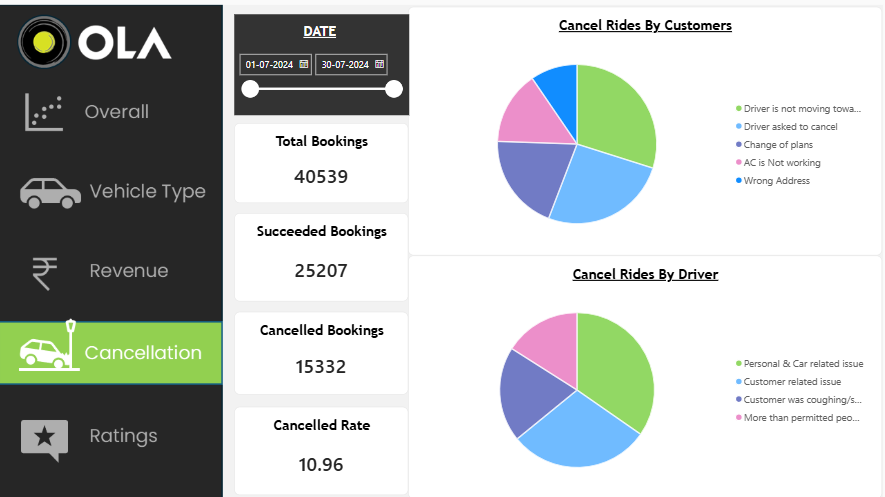

What the dashboard file says about the page in this screenshot:
{"tool":"powerbi","page":{"name":"Cancellation","canvas":[1920,1080],"ordinal":3},"visuals":[{"type":"actionButton","box":[318.3,406.7,325,90],"z":0},{"type":"actionButton","box":[318.3,516.7,325,90],"z":1000},{"type":"actionButton","box":[318.3,758.3,325,90],"z":2000},{"type":"actionButton","box":[318.3,290,325,90],"z":3000},{"type":"pieChart","title":"Cancel Rides By Customers","fields":{"Category":["July.Canceled_Rides_by_Customer"],"Series":["July.Canceled_Rides_by_Customer"],"Y":["CountNonNull(July.Canceled_Rides_by_Customer)"]},"box":[912,180,686,360],"z":3001},{"type":"pieChart","title":"Cancel Rides By Driver","fields":{"Category":["July.Canceled_Rides_by_Driver"],"Y":["CountNonNull(July.Canceled_Rides_by_Driver)"]},"box":[912,540,686,352],"z":3002},{"type":"slicer","title":"DATE","fields":{"Values":["July.Date"]},"box":[660,190,252.5,145],"z":3003},{"type":"card","title":"Total Bookings","fields":{"Values":["CountNonNull(July.Booking_ID)"]},"box":[660,348,252,116],"z":3004},{"type":"card","title":"Succeeded Bookings","fields":{"Values":["CountNonNull(July.Booking_ID)"]},"box":[660,478,252,128],"z":3005},{"type":"card","title":"Cancelled Bookings","fields":{"Values":["CountNonNull(July.Booking_ID)"]},"box":[660,620,252,120],"z":3006},{"type":"card","title":"Cancelled Rate","fields":{"Values":["July.Cancelpercentage"]},"box":[660,758,252,128],"z":3007}]}

Visuals, with their boxes in screenshot pixels (x1, y1, x2, y2), scaled from the page's 1920x1080 canvas onto the 885x497 screenshot:
actionButton: [147,187,297,229]
actionButton: [147,238,297,279]
actionButton: [147,349,297,390]
actionButton: [147,133,297,175]
"Cancel Rides By Customers" pieChart: [420,83,737,248]
"Cancel Rides By Driver" pieChart: [420,248,737,410]
"DATE" slicer: [304,87,421,154]
"Total Bookings" card: [304,160,420,214]
"Succeeded Bookings" card: [304,220,420,279]
"Cancelled Bookings" card: [304,285,420,341]
"Cancelled Rate" card: [304,349,420,408]
